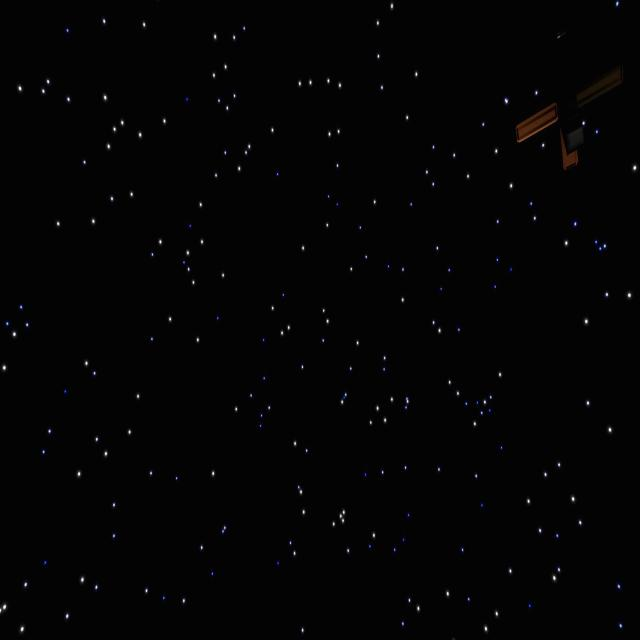satellite: (502, 57, 624, 174)
